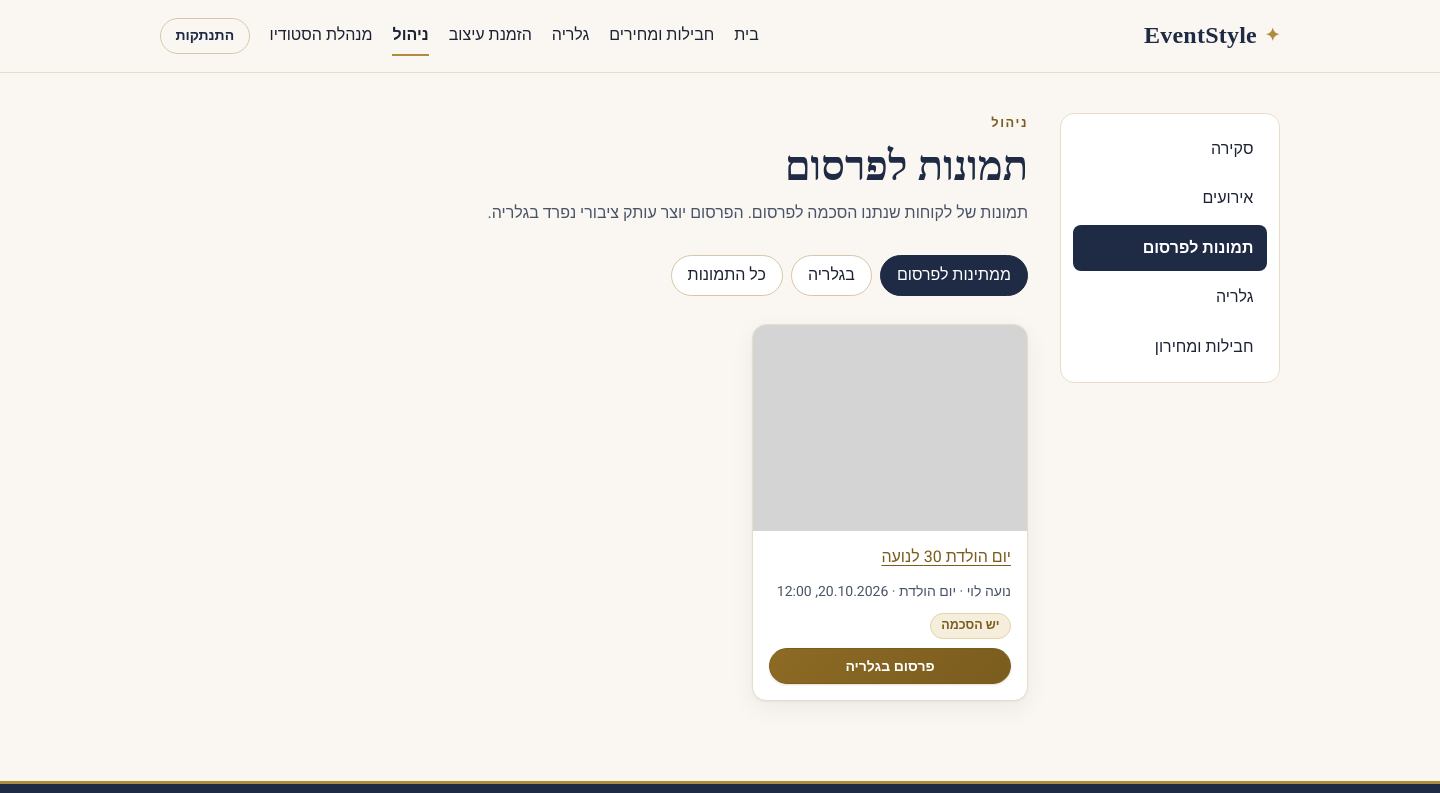
Test case: Admin: photos waiting for publication › lists consented photos not yet in the gallery and publishes one as a separate copy
Expected: the link "יום הולדת 30 לנועה" is shown, [881,545,1011,569]
Click the button "פרסום בגלריה": (890, 666) [769,648,1011,684]
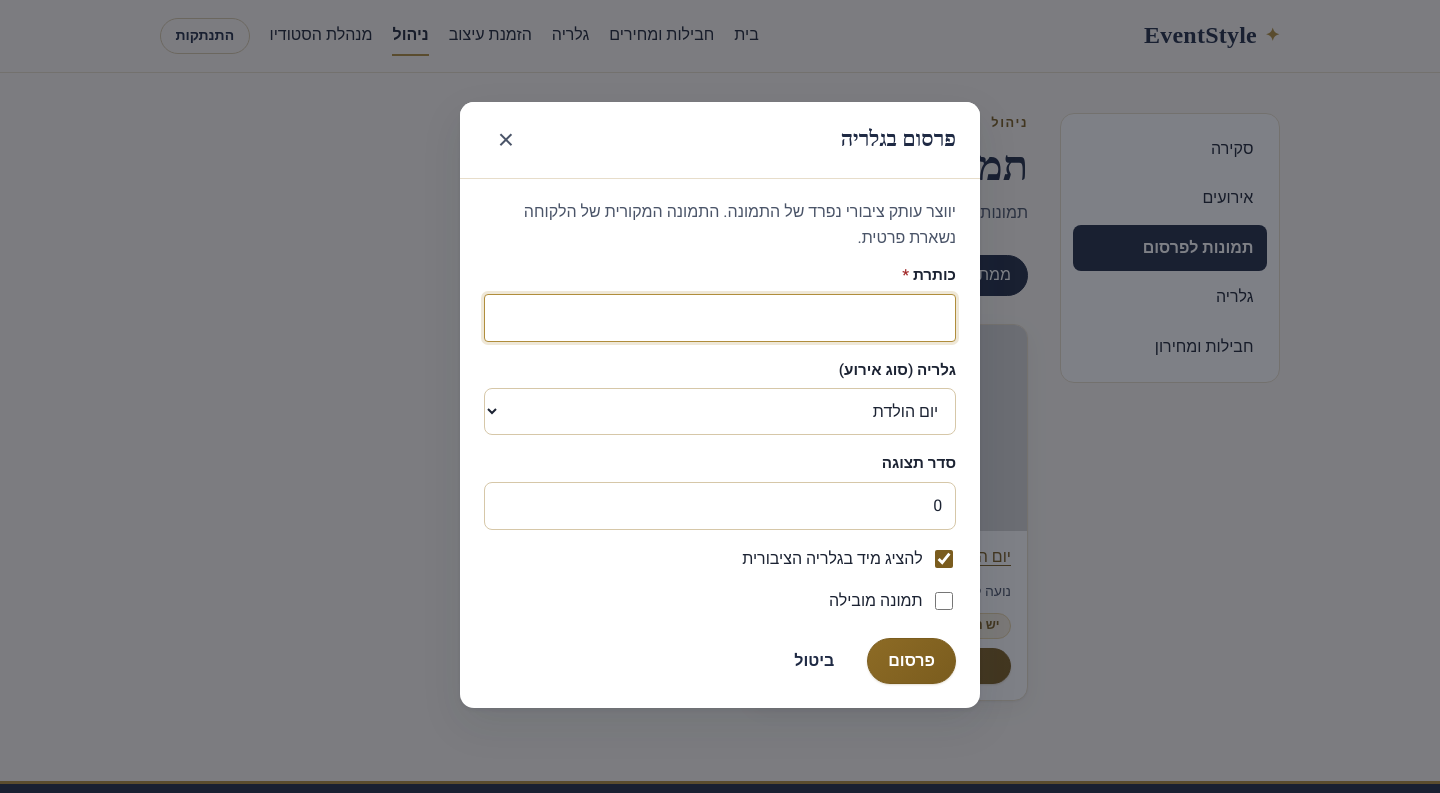
In the field labelled "כותרת *": (720, 318) [484,294,956,342], type "שולחן מתוקים ורוד"
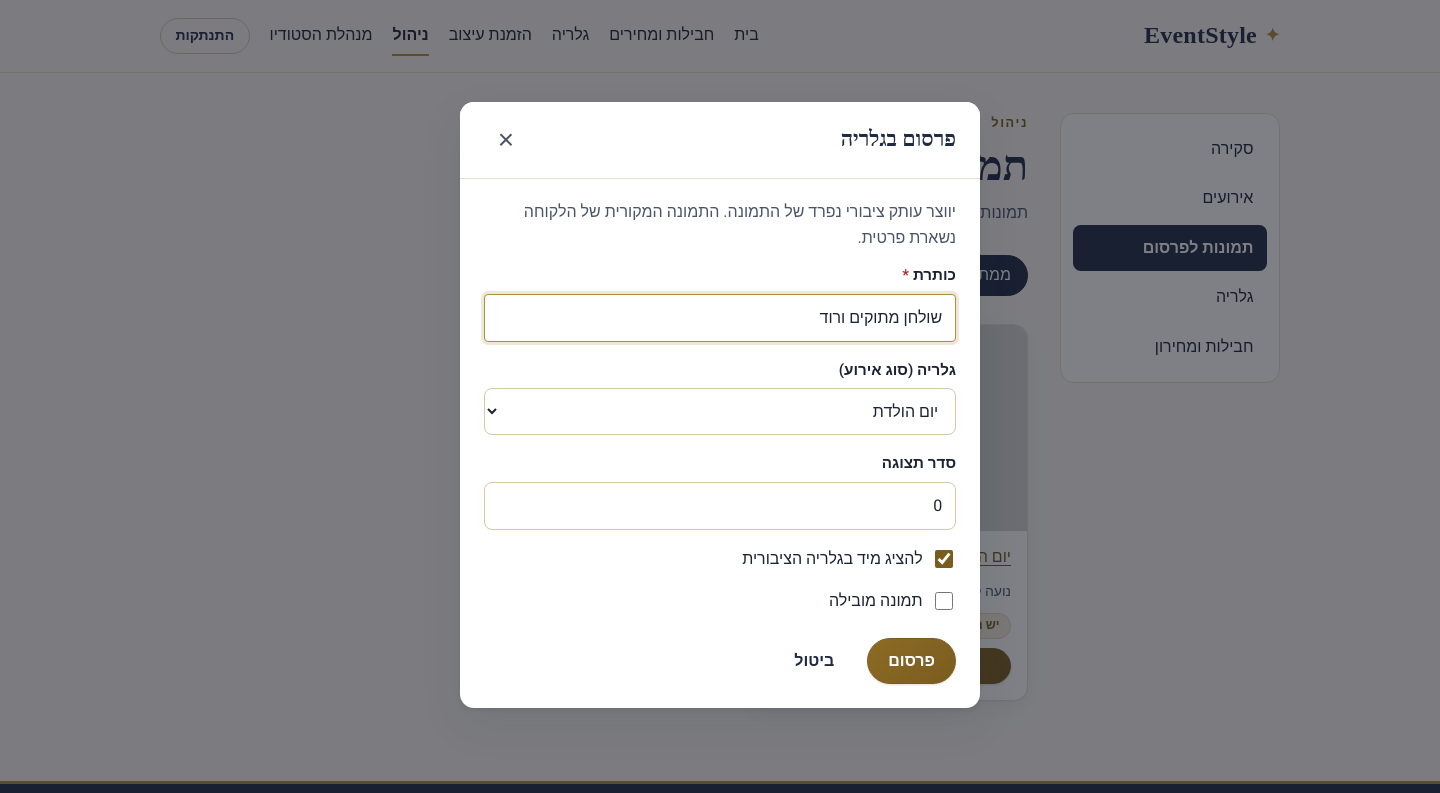
Click the checkbox labelled "תמונה מובילה": (944, 601) [935,592,953,610]
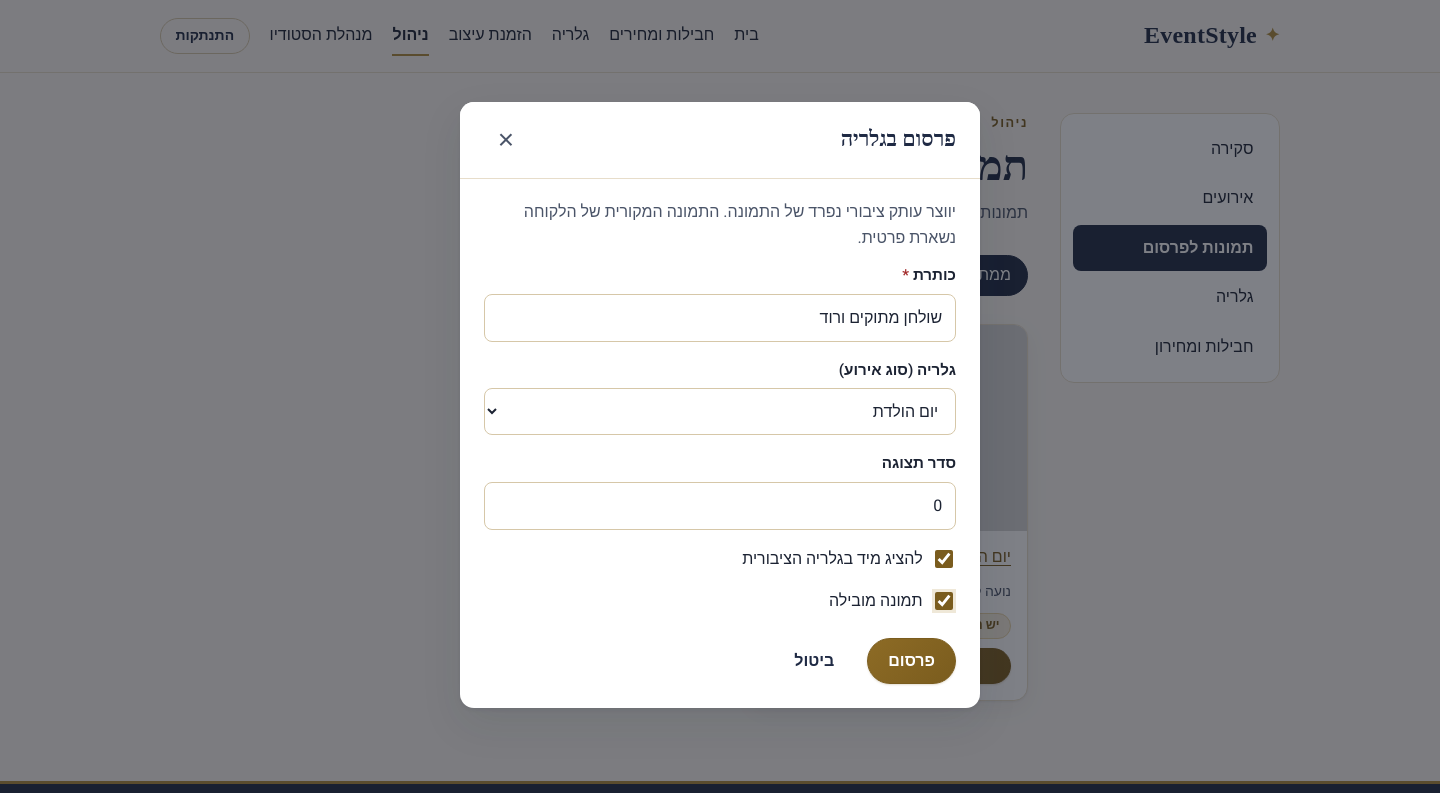
Click the button "פרסום": (912, 662) [867,638,956,684]
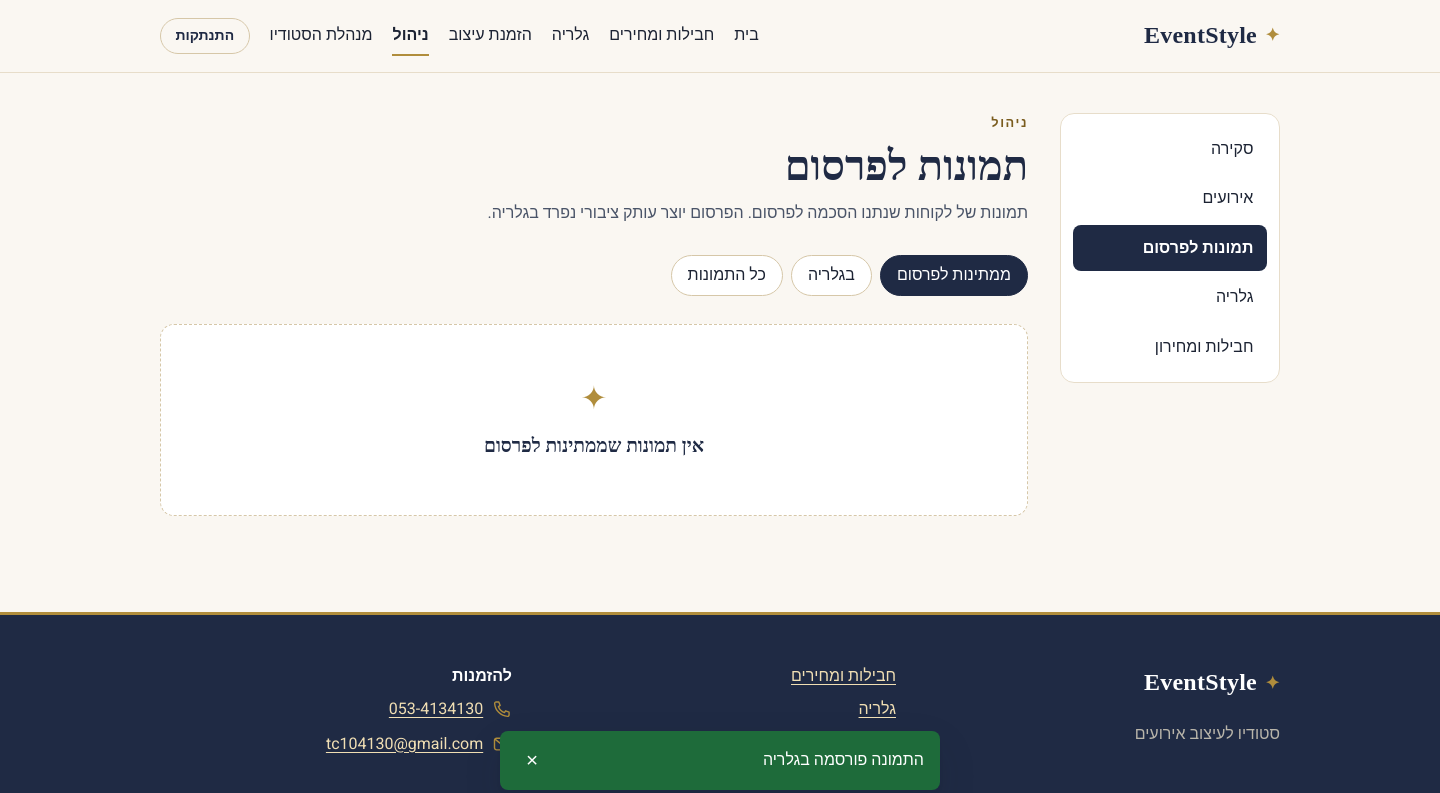
Result: the text "התמונה פורסמה בגלריה" is shown at [763,747,924,774]
Result: the heading "אין תמונות שממתינות לפרסום" is shown at [484,435,704,456]
